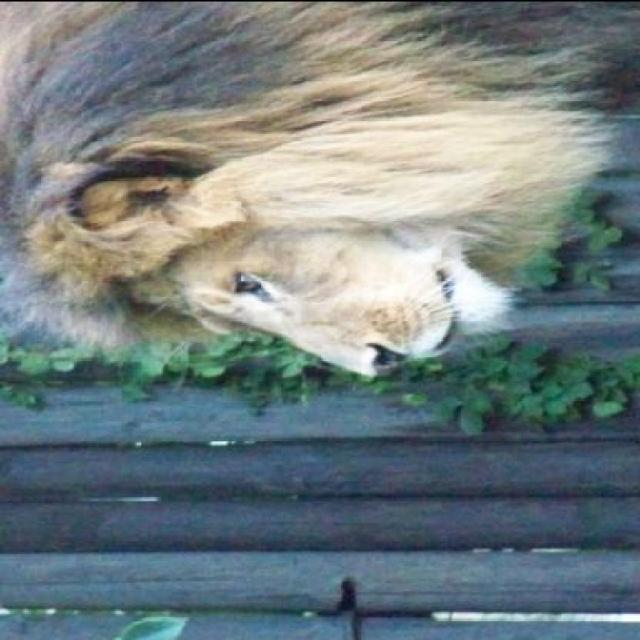Lion: (16, 0, 638, 375)
